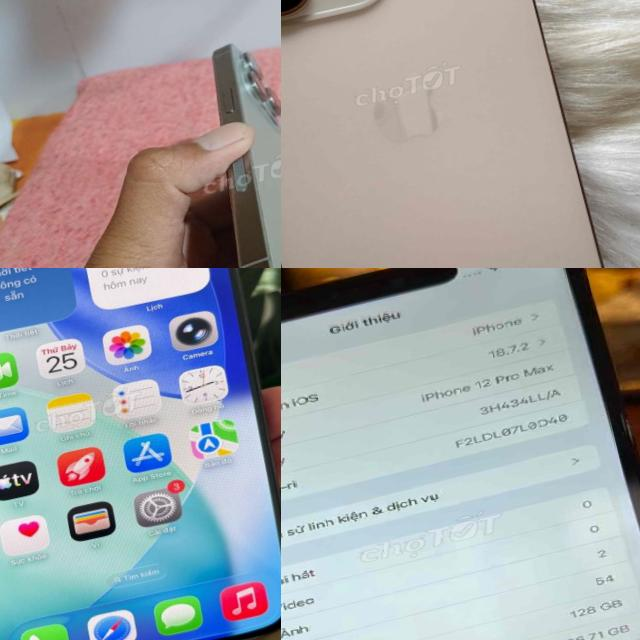gen_12_13: (281, 268, 640, 640)
gen_15: (0, 268, 281, 640), (155, 0, 281, 268)
gen_16: (281, 0, 602, 268)
